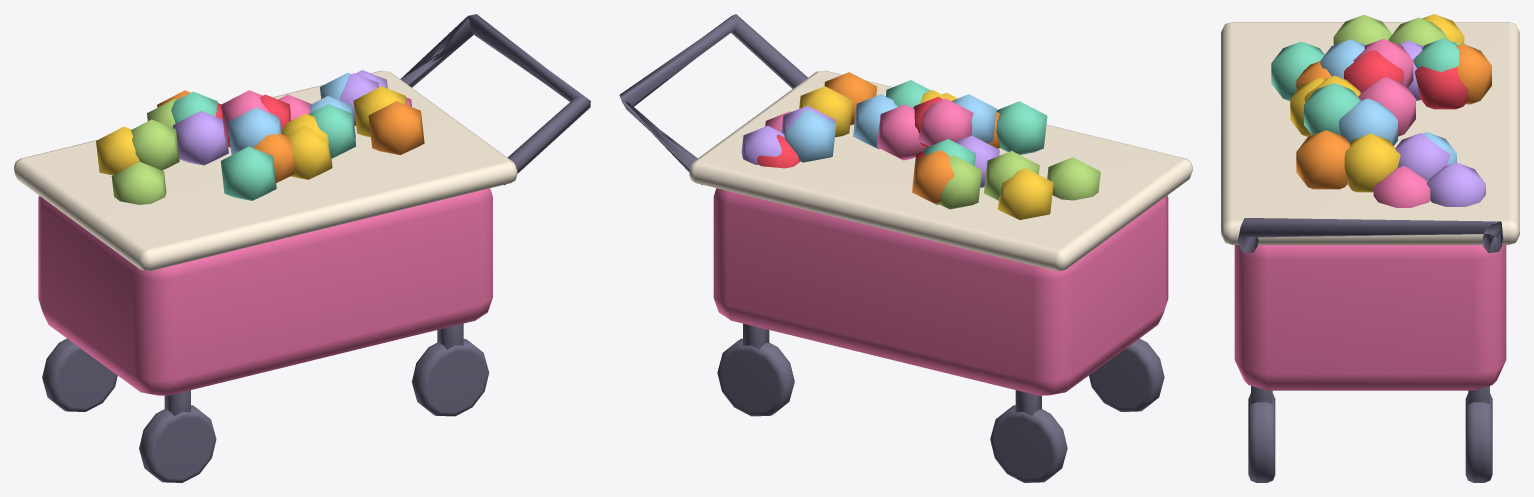
Rendered from candy_cart.glb.
3 views of the same model, side by side, from view 1: azimuth 30°, elevation 25°; view 2: azimuth 150°, elevation 25°; view 3: azimuth 270°, elevation 25° (orthographic). The views are drawn at different scales.
Parts seen in each view (by area): view 1: Cart; view 2: Cart; view 3: Cart.
Boxes of the visible parts, x1=… form: Cart: x1=14, y1=14, x2=590, y2=482; Cart: x1=619, y1=14, x2=1192, y2=482; Cart: x1=1221, y1=14, x2=1519, y2=482.
Size of the model in its own units: 2.18 by 1.46 by 1.1.
